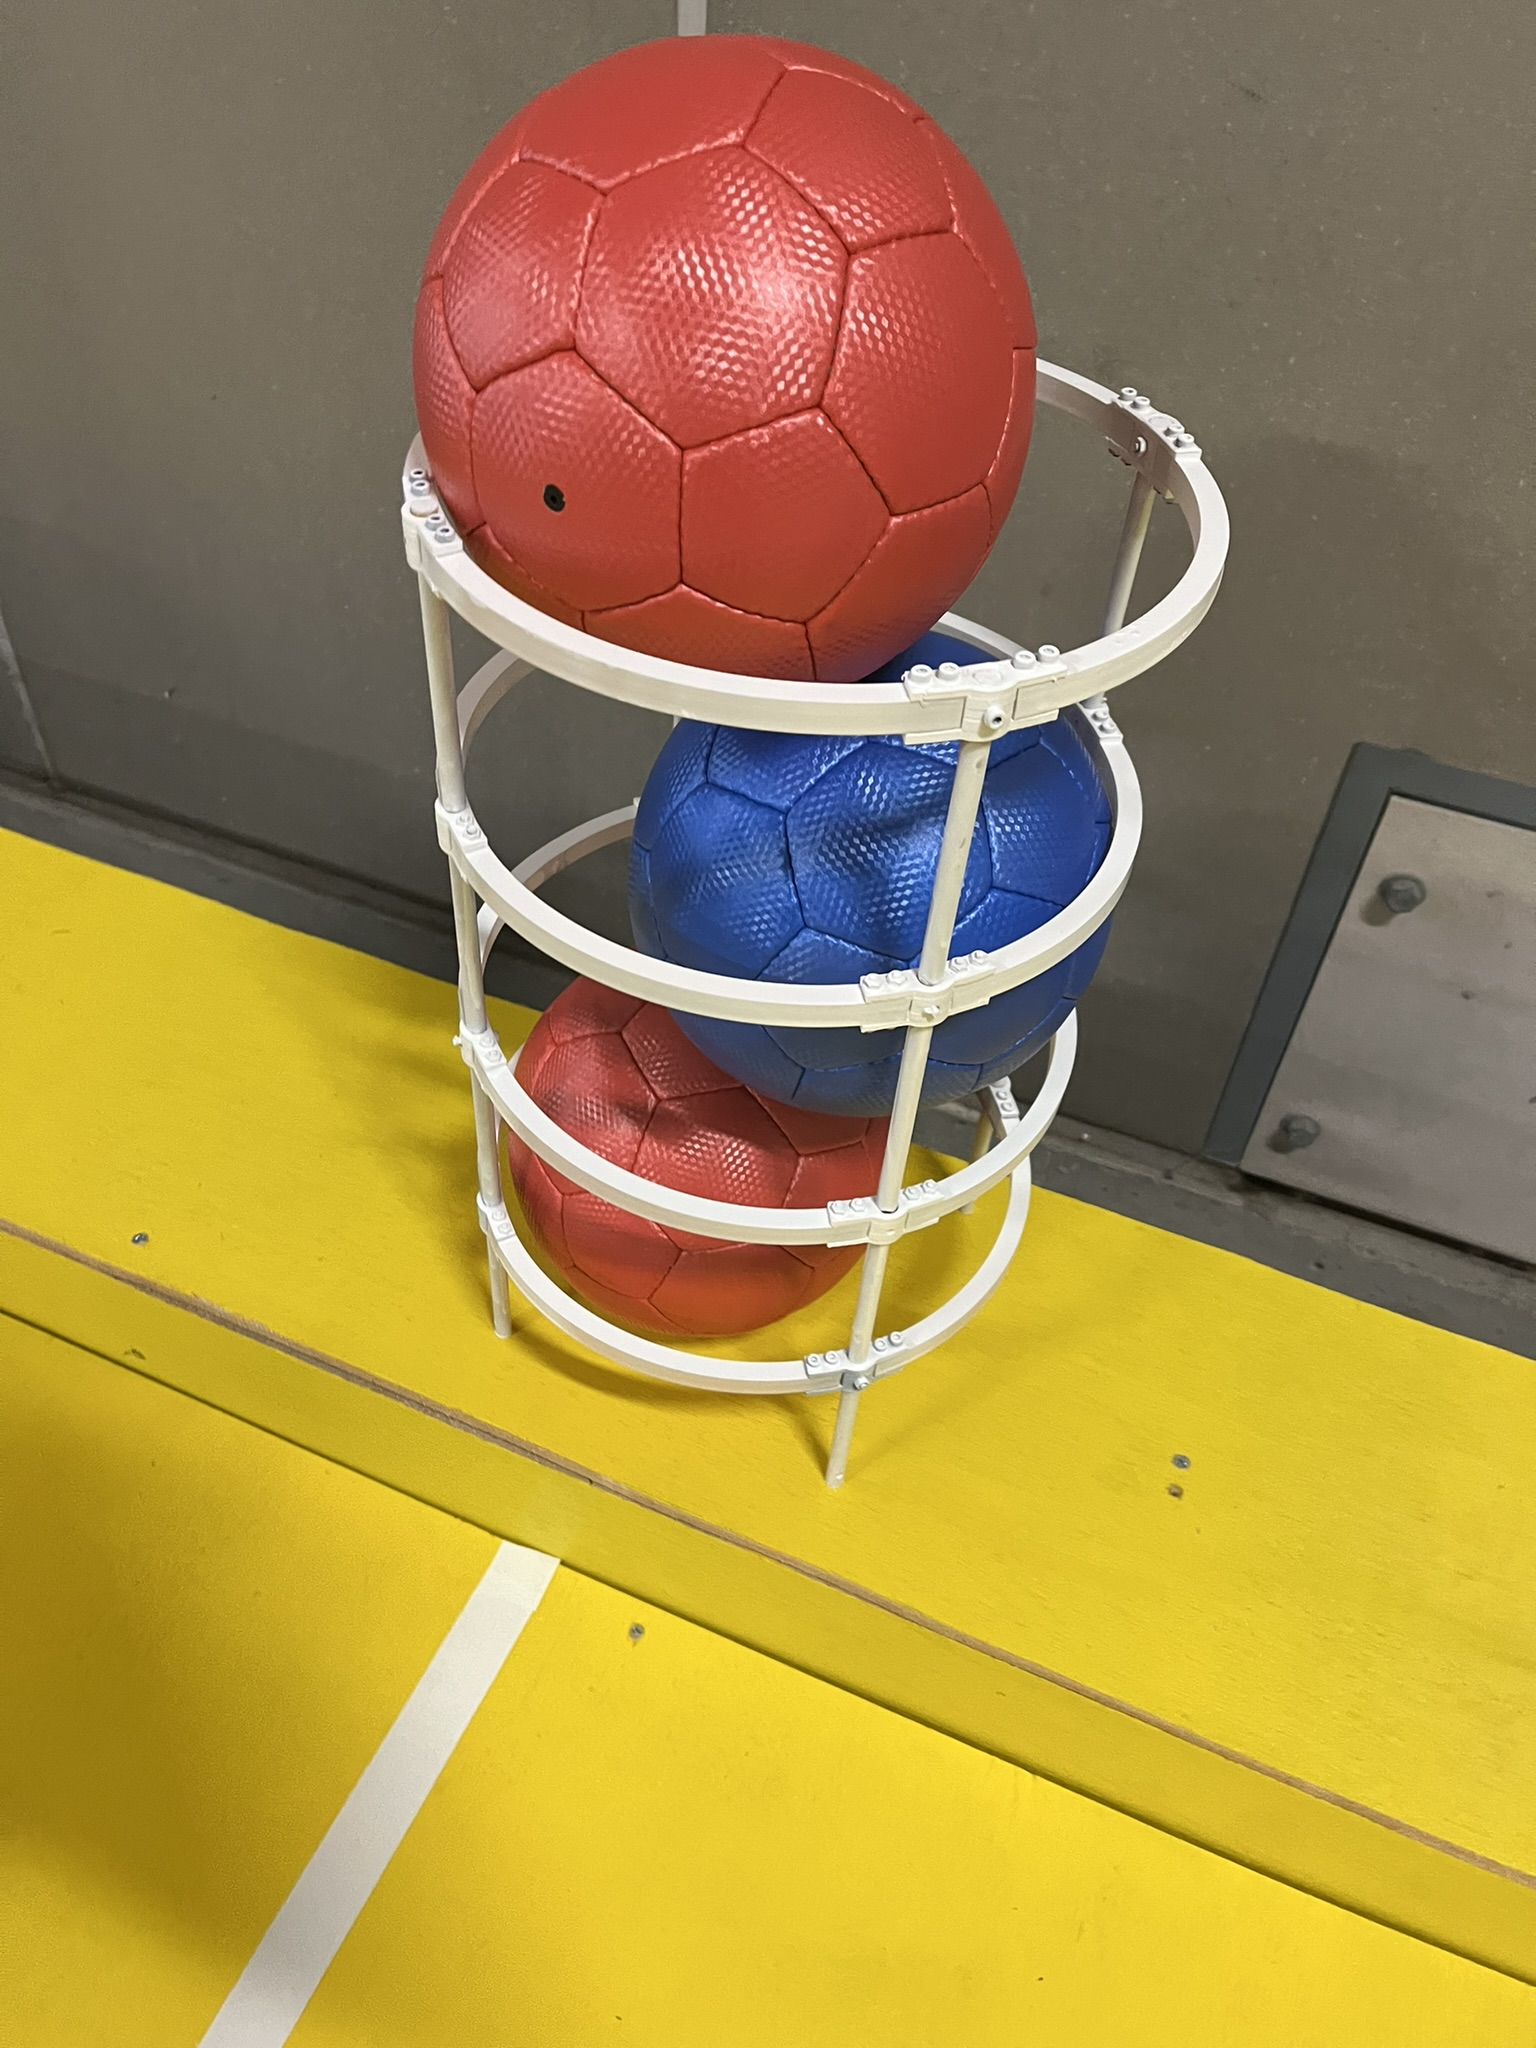blue: (636, 635, 1115, 1095)
